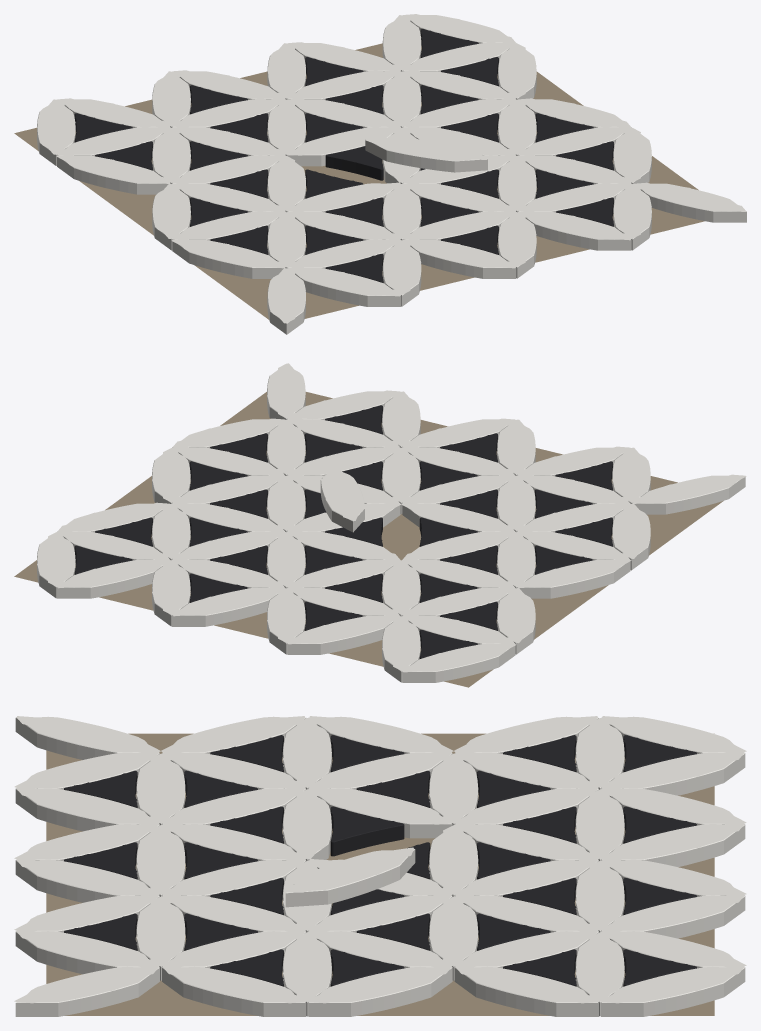
File: terilgan.glb
3 views of the same model, one above another, from view 1: azimuth 30°, elevation 25°; view 2: azimuth 150°, elevation 25°; view 3: azimuth 270°, elevation 25° (orthographic). The views are drawn at different scales.
Parts seen in each view (by area): view 1: qum, t.034, t.001, t.007, t.068, t.080, t.046, t.024, t.023, t.037, t.079, t.045 (+70 smaller); view 2: qum, t.004, t.023, t.011, t.042, t.020, t.064, t.034, t.032, t.001, t.007, t.005 (+70 smaller); view 3: qum, t.081, t.080, t.078, t.077, t.065, t.034, t.023, t.067, t.079, t.045, t.005 (+71 smaller).
Boxes of the visible parts, x1,y1,x2,y2 form: qum: (14,43,704,319); t.034: (365,137,487,172); t.001: (56,154,170,194); t.007: (171,239,285,278); t.068: (517,211,631,250); t.080: (633,182,746,222); t.046: (402,239,516,278); t.024: (287,267,401,306); t.023: (267,268,305,334); t.037: (287,126,400,166); t.079: (613,183,651,250); t.045: (382,240,421,306); qum: (14,392,723,687); t.004: (402,643,516,682); t.023: (632,474,746,514); t.011: (517,559,631,598); t.042: (172,587,285,626); t.020: (287,615,401,654); t.064: (57,559,170,598); t.034: (320,466,364,532); t.032: (401,503,515,532); t.001: (497,588,535,654); t.007: (612,503,650,570); t.005: (382,616,420,682); qum: (46,733,714,1015); t.081: (162,966,306,1016); t.080: (14,966,159,1016); t.078: (454,966,599,1016); t.077: (308,966,452,1016); t.065: (601,966,745,1016); t.034: (284,847,415,907); t.023: (15,716,160,759); t.067: (15,859,160,902); t.079: (15,930,160,974); t.045: (15,788,160,831); t.005: (600,752,745,795).
Bounding box in the file's own units: 1.69 × 0.082 × 1.82.
